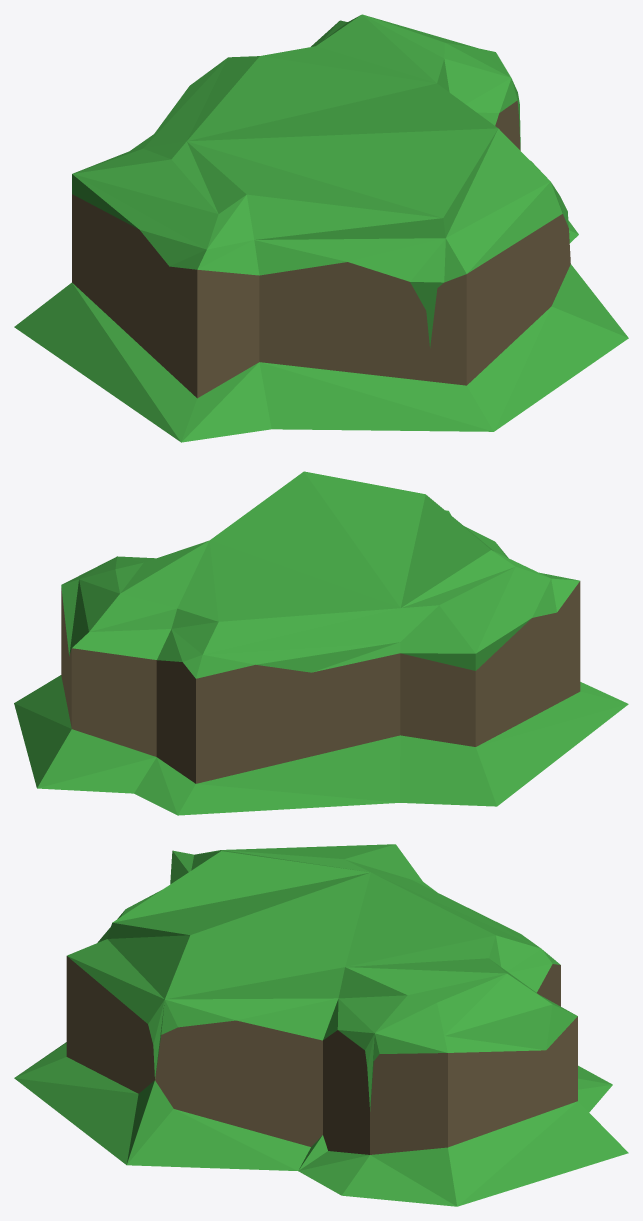
Rendered from Ground_06.FBX.
3 renders of one model, top to bottom at view 1: azimuth 30°, elevation 25°; view 2: azimuth 150°, elevation 25°; view 3: azimuth 270°, elevation 25°, orthographic. The views are drawn at different scales.
Visible parts, largest first — view 1: Ground_06; view 2: Ground_06; view 3: Ground_06.
Boxes of the visible parts, <box> form: Ground_06: <box>14,14,628,442</box>; Ground_06: <box>14,471,628,815</box>; Ground_06: <box>14,844,628,1206</box>.
Bounding box in the file's own units: 10.41 × 3.8 × 11.26.
